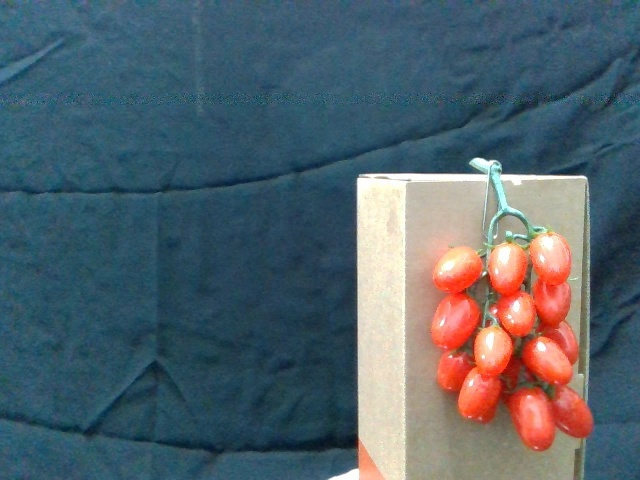tomato: (429, 293, 482, 350), (547, 383, 596, 441), (512, 388, 555, 451), (432, 244, 485, 293), (522, 338, 576, 386), (458, 368, 501, 425), (529, 226, 573, 280), (474, 322, 515, 377), (489, 241, 529, 295), (495, 288, 537, 337), (541, 316, 582, 366), (533, 278, 573, 327), (435, 347, 477, 393)
